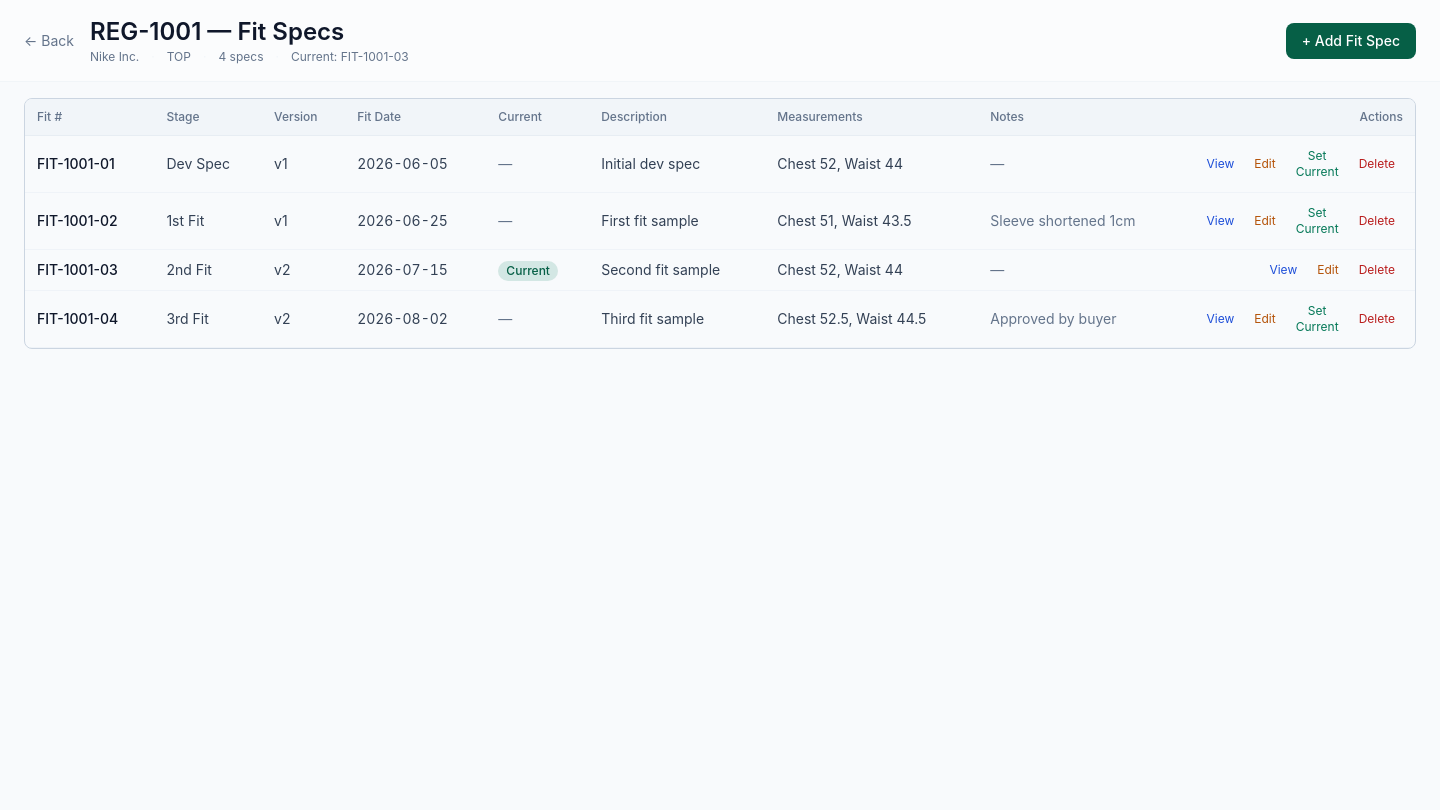
DesignFitSpecsPage › deletes a fit spec after confirmation
Expected: the text "FIT-1001-01" is shown, [25, 136, 154, 193]
Click the button "Delete" in the row of "FIT-1001-01": point(1377, 164) [1351, 152, 1403, 176]
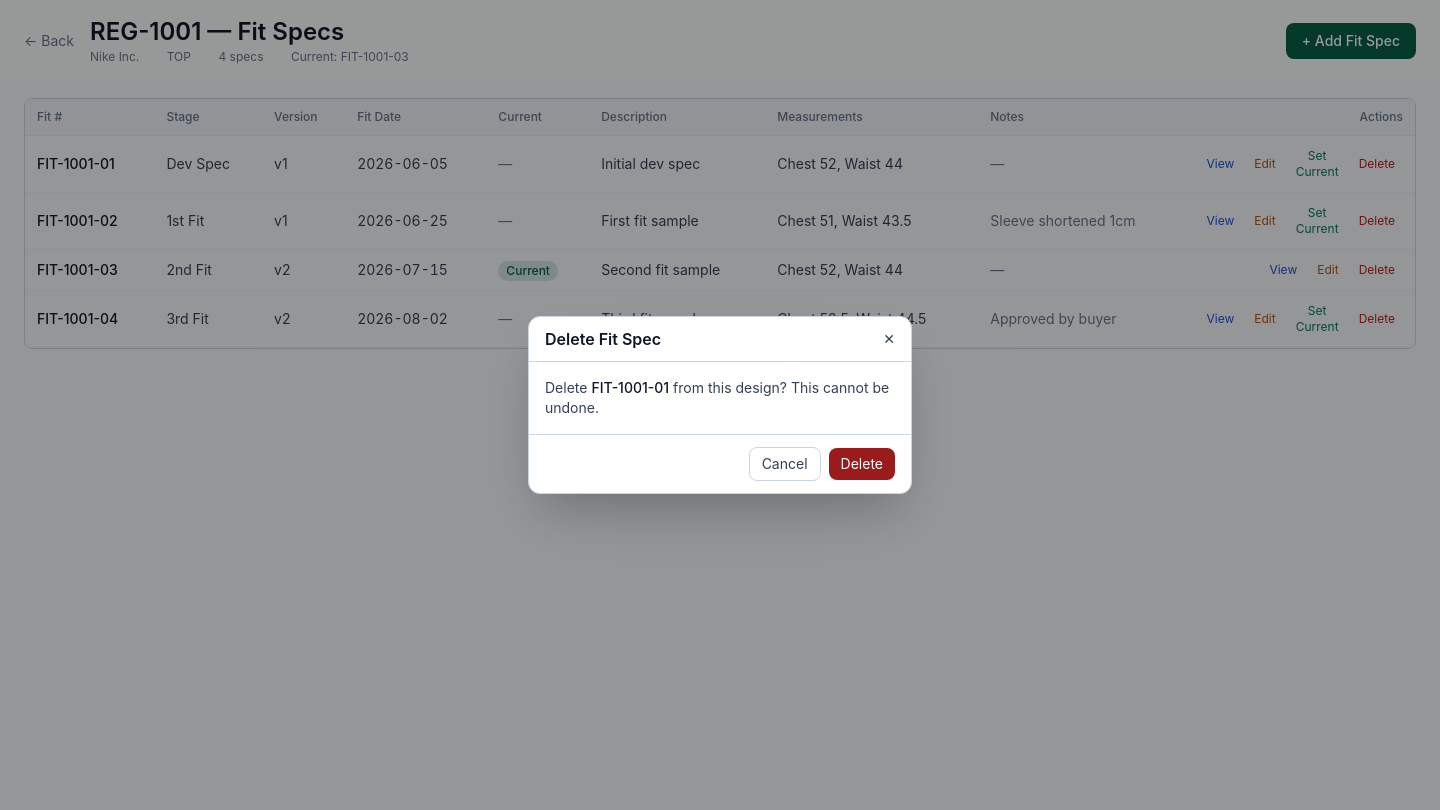
Expected: the text "FIT-1001-01" is shown, [591, 379, 669, 396]
Click the button "Delete": point(862, 464) [829, 448, 895, 480]
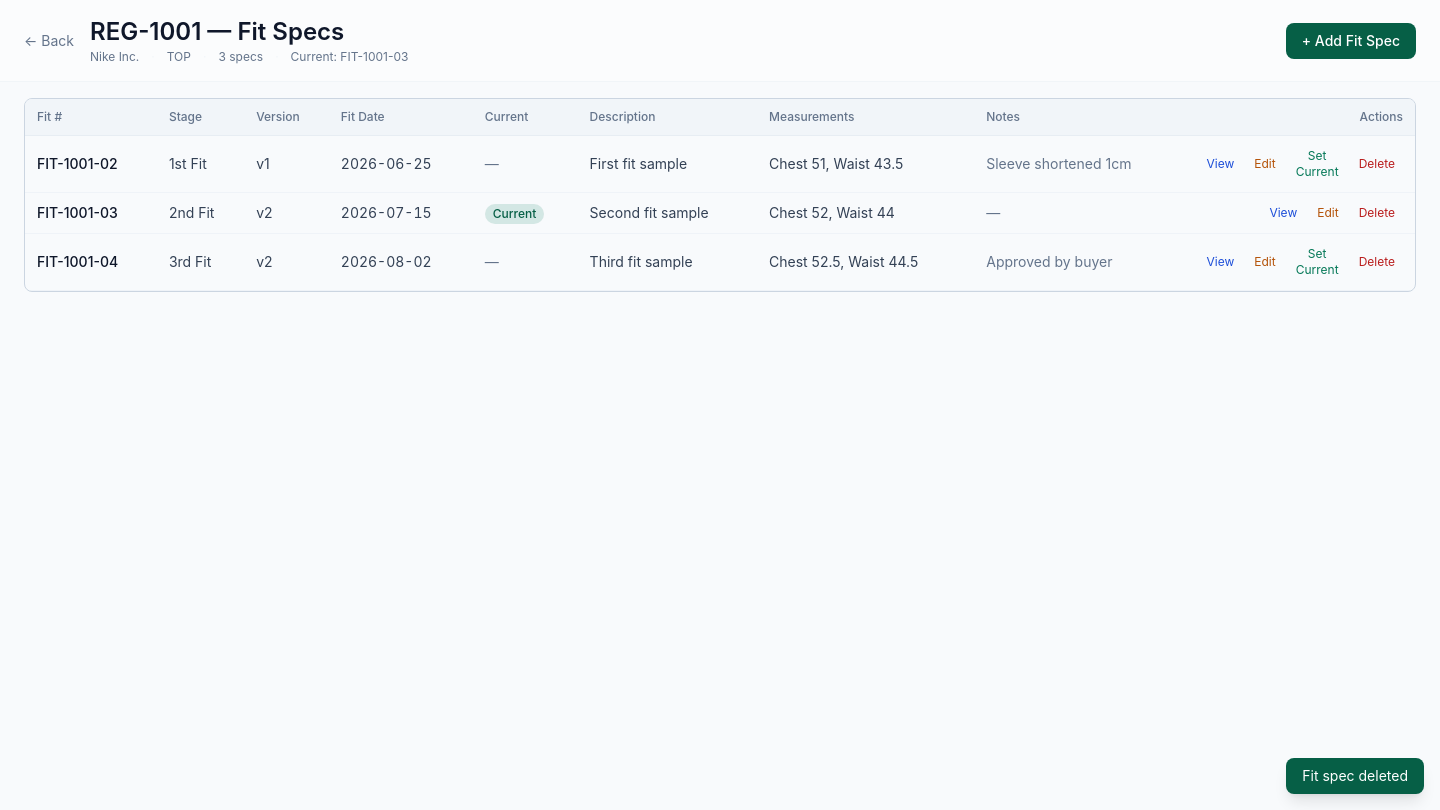
Expected: the text "FIT-1001-01" is gone
